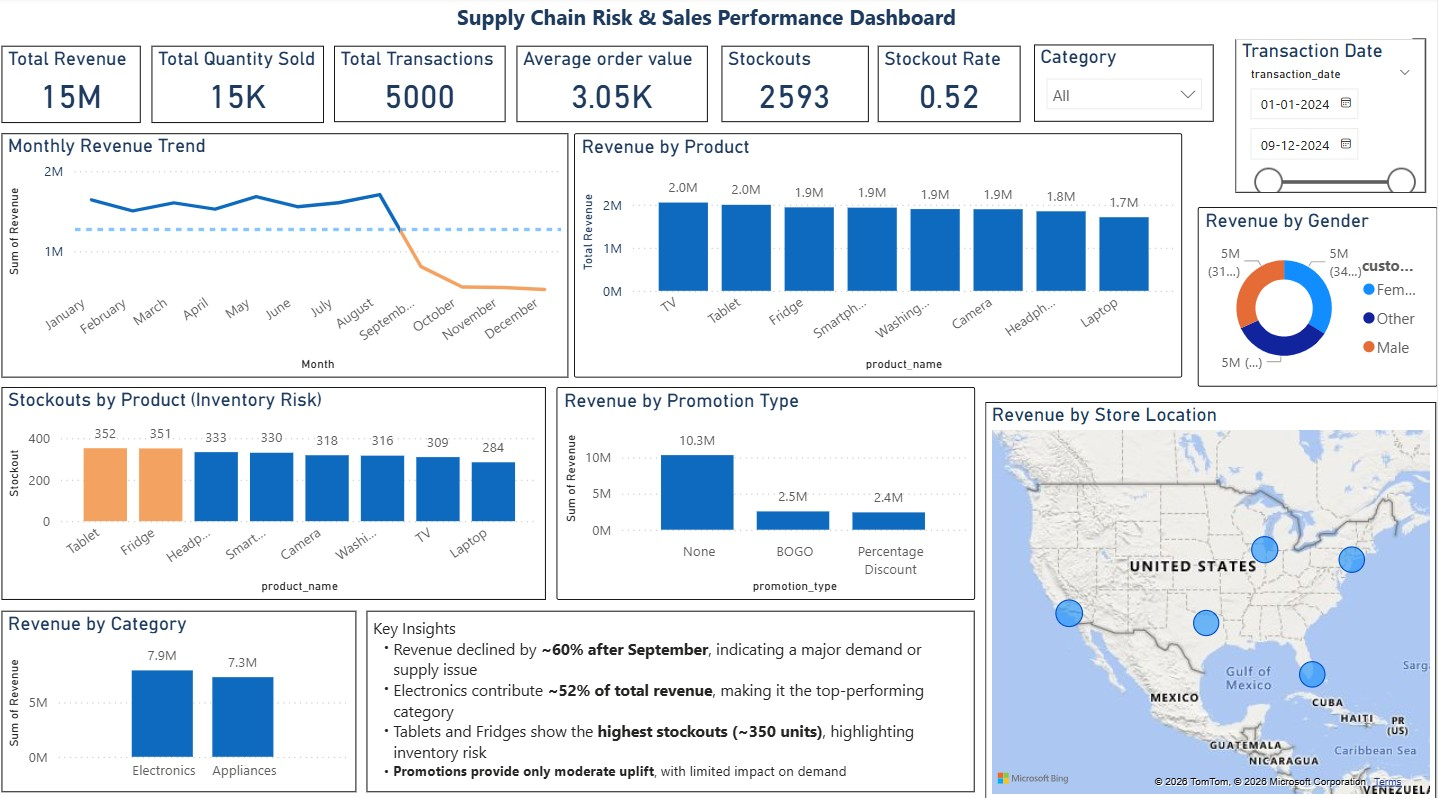

Layout of this report page (visuals, bound fields, positions):
{"tool":"powerbi","page":{"name":"Page 1","canvas":[1280,720],"ordinal":0},"visuals":[{"type":"card","title":"Total Revenue","fields":{"Values":["Sum(Walmart.Revenue)"]},"box":[2.7,43.6,124.2,68.9],"z":0},{"type":"card","title":"Total Quantity Sold","fields":{"Values":["Sum(Walmart.quantity_sold)"]},"box":[135.9,43.6,153.6,68.9],"z":1000},{"type":"lineChart","title":"Monthly Revenue Trend","fields":{"Category":["Walmart.transaction_date.Variation.Date Hierarchy.Month"],"Y":["Sum(Walmart.Revenue)"]},"box":[2.3,120.8,504.7,217.9],"z":2000},{"type":"map","title":"Revenue by Store Location","fields":{"Category":["Walmart.store_location"],"Size":["Walmart.Total Revenue"]},"box":[878.5,360.2,402,355.7],"z":3000},{"type":"card","title":"Average order value","fields":{"Values":["Walmart.Average Order Value"]},"box":[460.9,43.4,170.5,67.7],"z":4000},{"type":"clusteredColumnChart","title":"Revenue by Category","fields":{"Category":["Walmart.category"],"Y":["Sum(Walmart.Revenue)"]},"box":[2.3,546.5,316.2,161.5],"z":5000},{"type":"clusteredColumnChart","title":"Revenue by Product","fields":{"Category":["Walmart.product_name"],"Y":["Walmart.Total Revenue"]},"box":[511.5,120.8,542,217.9],"z":6000},{"type":"donutChart","title":"Revenue by Gender","fields":{"Category":["Walmart.customer_gender"],"Y":["Sum(Walmart.Revenue)"]},"box":[1067,187.4,213.4,160.3],"z":7000},{"type":"clusteredColumnChart","title":"Revenue by Promotion Type","fields":{"Category":["Walmart.promotion_type"],"Y":["Sum(Walmart.Revenue)"]},"box":[496.8,347.8,372.6,189.7],"z":8000},{"type":"card","title":"Total Transactions","fields":{"Values":["Count(Walmart.transaction_id)"]},"box":[298.3,43.4,152.4,67.7],"z":9000},{"type":"slicer","title":"Transaction Date","fields":{"Values":["Walmart.transaction_date"]},"box":[1100.9,37.3,169.4,137.8],"z":10000},{"type":"slicer","title":"Category","fields":{"Values":["Walmart.category"]},"box":[921.8,42.5,160.3,68.9],"z":11000},{"type":"card","title":"Stockouts","fields":{"Values":["Walmart.Test Stockout"]},"box":[643.8,43.4,131,67.7],"z":12000},{"type":"clusteredColumnChart","title":"Stockouts by Product (Inventory Risk)","fields":{"Category":["Walmart.product_name"],"Y":["Walmart.Stockout"]},"box":[2.3,347.8,484.4,189.7],"z":13000},{"type":"card","title":"Stockout Rate","fields":{"Values":["Walmart.stockout_rate"]},"box":[782.7,43.4,127.6,67.7],"z":14000},{"type":"textbox","box":[327.5,546.5,542,161.5],"z":15000},{"type":"textbox","box":[1.1,0,1257.9,37.3],"z":16000}]}

Visuals, with their boxes in screenshot pixels (x1, y1, x2, y2), scaled from the page's 1280x720 canvas onto the 1438x798 screenshot:
"Total Revenue" card: 3, 48, 143, 125
"Total Quantity Sold" card: 153, 48, 325, 125
"Monthly Revenue Trend" lineChart: 3, 134, 570, 375
"Revenue by Store Location" map: 987, 399, 1437, 793
"Average order value" card: 518, 48, 709, 123
"Revenue by Category" clusteredColumnChart: 3, 606, 358, 785
"Revenue by Product" clusteredColumnChart: 575, 134, 1184, 375
"Revenue by Gender" donutChart: 1199, 208, 1437, 385
"Revenue by Promotion Type" clusteredColumnChart: 558, 385, 977, 596
"Total Transactions" card: 335, 48, 506, 123
"Transaction Date" slicer: 1237, 41, 1427, 194
"Category" slicer: 1036, 47, 1216, 123
"Stockouts" card: 723, 48, 870, 123
"Stockouts by Product (Inventory Risk)" clusteredColumnChart: 3, 385, 547, 596
"Stockout Rate" card: 879, 48, 1023, 123
textbox: 368, 606, 977, 785
textbox: 1, 0, 1414, 41
